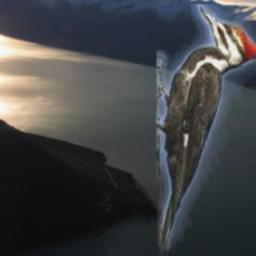Woodpecker: (155, 5, 256, 256)
